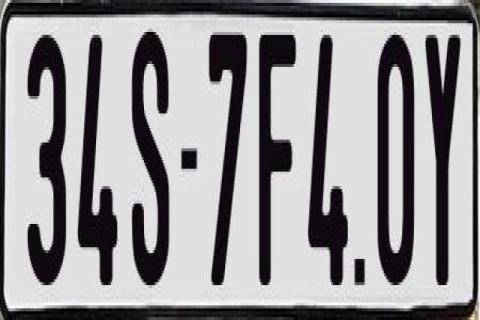0: (308, 32, 354, 300), (26, 26, 70, 294), (209, 35, 253, 288), (374, 32, 414, 285), (76, 32, 115, 285)
F: (258, 26, 296, 294)
S: (130, 23, 168, 291)
Y: (424, 32, 462, 300)
